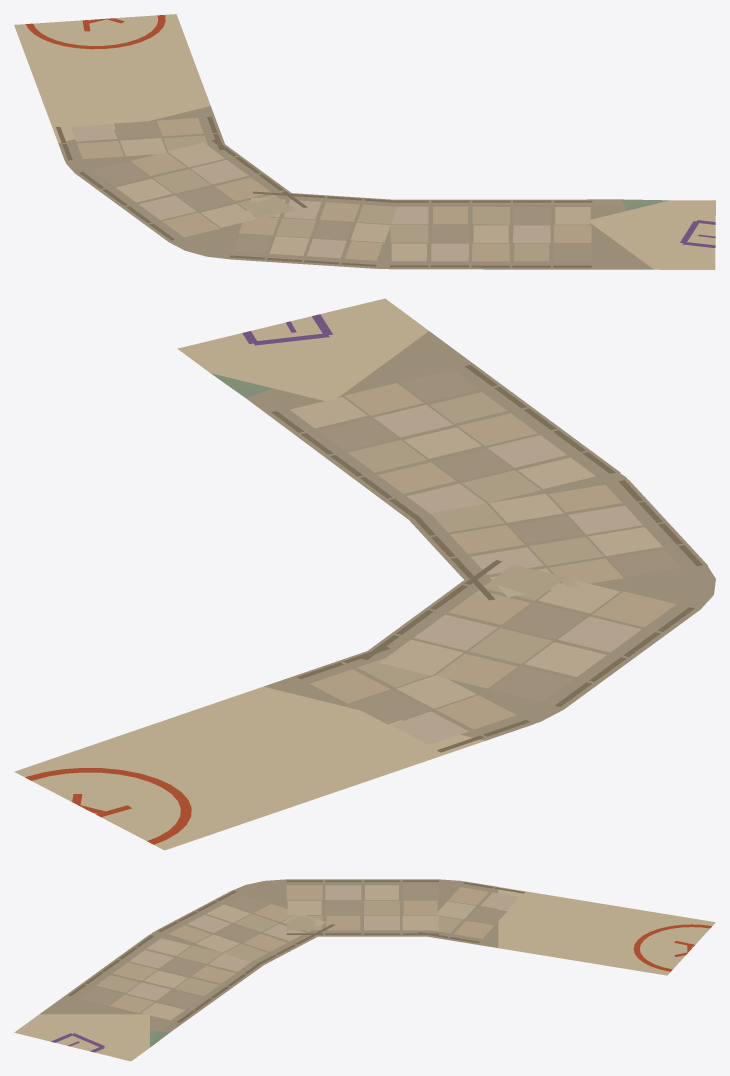
File: route-temple_s-a-walk.glb
3 views of the same model, one above another, from view 1: azimuth 30°, elevation 25°; view 2: azimuth 150°, elevation 25°; view 3: azimuth 270°, elevation 25° (orthographic). The views are drawn at different scales.
Parts seen in each view (by area): view 1: Surveyed floor · route-temple_s-a-walk, South Temple to Ghat Mandapa / #C2AE8D, South Temple to Ghat Mandapa / #C9B798, South Temple to Ghat Mandapa / #AE9D84, South Temple to Ghat Mandapa / #C7B399, South Temple to Ghat Mandapa / #BDAD8E, South Temple to Ghat Mandapa / #85775D; view 2: Surveyed floor · route-temple_s-a-walk, South Temple to Ghat Mandapa / #C2AE8D, South Temple to Ghat Mandapa / #C9B798, South Temple to Ghat Mandapa / #AE9D84, South Temple to Ghat Mandapa / #C7B399, South Temple to Ghat Mandapa / #BDAD8E, South Temple to Ghat Mandapa / #85775D; view 3: Surveyed floor · route-temple_s-a-walk, South Temple to Ghat Mandapa / #C2AE8D, South Temple to Ghat Mandapa / #C9B798, South Temple to Ghat Mandapa / #AE9D84, South Temple to Ghat Mandapa / #C7B399, South Temple to Ghat Mandapa / #BDAD8E, South Temple to Ghat Mandapa / #85775D.
Part boxes in pixels (box(x1,y1,x2,y2)): Surveyed floor · route-temple_s-a-walk: box(14, 14, 715, 269); South Temple to Ghat Mandapa / #C2AE8D: box(77, 118, 591, 261); South Temple to Ghat Mandapa / #C9B798: box(116, 138, 590, 261); South Temple to Ghat Mandapa / #AE9D84: box(92, 121, 591, 261); South Temple to Ghat Mandapa / #C7B399: box(71, 124, 550, 261); South Temple to Ghat Mandapa / #BDAD8E: box(153, 135, 549, 261); South Temple to Ghat Mandapa / #85775D: box(56, 116, 592, 267); Surveyed floor · route-temple_s-a-walk: box(14, 298, 715, 850); South Temple to Ghat Mandapa / #C2AE8D: box(310, 383, 675, 729); South Temple to Ghat Mandapa / #C9B798: box(290, 397, 662, 708); South Temple to Ghat Mandapa / #AE9D84: box(318, 369, 681, 724); South Temple to Ghat Mandapa / #C7B399: box(373, 405, 642, 744); South Temple to Ghat Mandapa / #BDAD8E: box(348, 392, 603, 687); South Temple to Ghat Mandapa / #85775D: box(271, 365, 702, 752); Surveyed floor · route-temple_s-a-walk: box(14, 879, 715, 1061); South Temple to Ghat Mandapa / #C2AE8D: box(109, 885, 494, 1012); South Temple to Ghat Mandapa / #C9B798: box(141, 885, 475, 1020); South Temple to Ghat Mandapa / #AE9D84: box(79, 885, 507, 1008); South Temple to Ghat Mandapa / #C7B399: box(126, 885, 519, 1000); South Temple to Ghat Mandapa / #BDAD8E: box(96, 900, 461, 996); South Temple to Ghat Mandapa / #85775D: box(68, 880, 524, 1022).
Size of the model in its own units: 22.26 by 0.0509 by 36.28.
